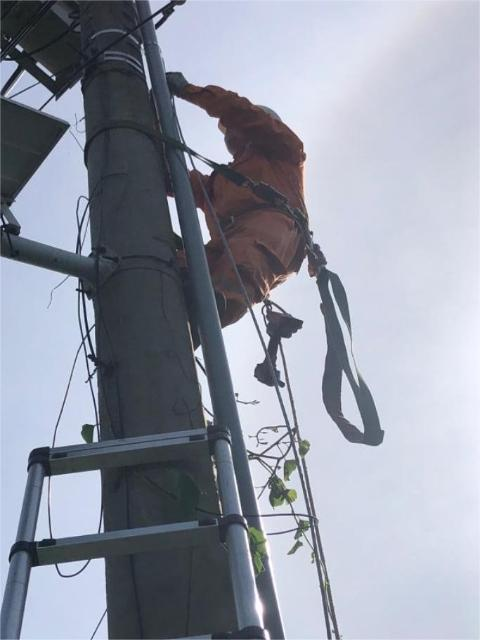gloves: (155, 64, 197, 103)
harness: (210, 174, 318, 230)
helmet: (213, 78, 296, 139)
